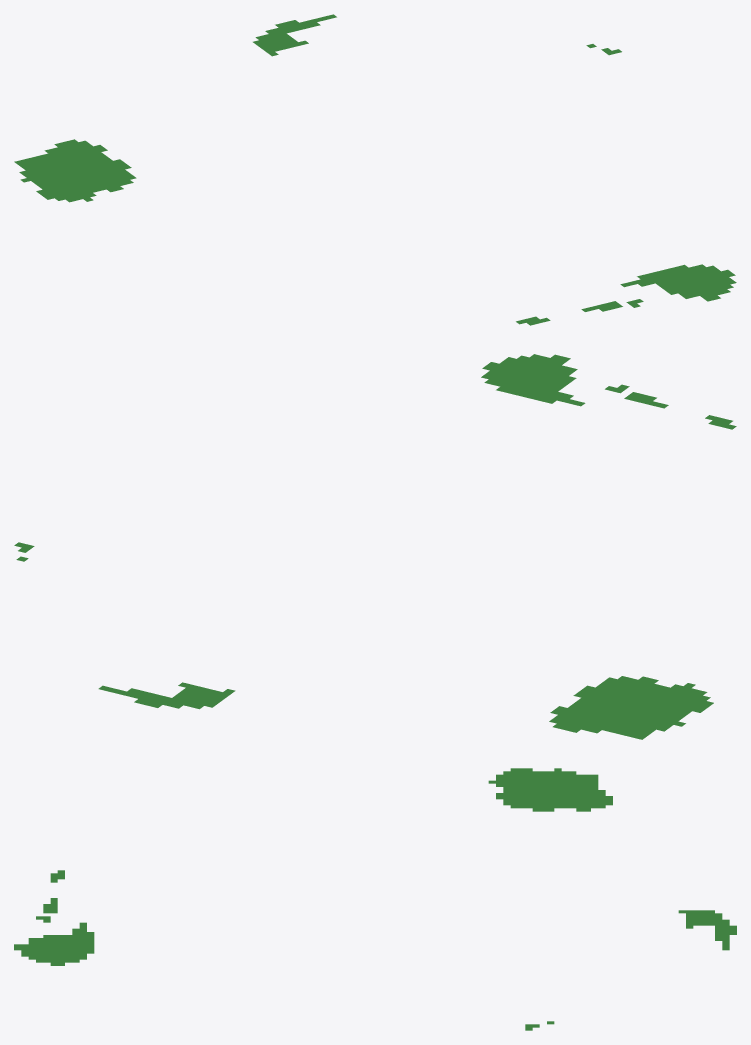
Rendered from Isl-atoll6-TreesArea.fbx.
The picture shows the model from 3 angles, top to bottom: view 1: azimuth 30°, elevation 25°; view 2: azimuth 150°, elevation 25°; view 3: azimuth 270°, elevation 25°; orthographic projection. The views are drawn at different scales.
Visible parts, largest first — view 1: Isl-atoll6-TreesArea; view 2: Isl-atoll6-TreesArea; view 3: Isl-atoll6-TreesArea.
Part boxes in pixels (x1,y1,x2,y2): Isl-atoll6-TreesArea: (14, 14, 736, 325); Isl-atoll6-TreesArea: (14, 354, 736, 739); Isl-atoll6-TreesArea: (14, 768, 736, 1030).
Size of the model in its own units: 85 by 0 by 99.
